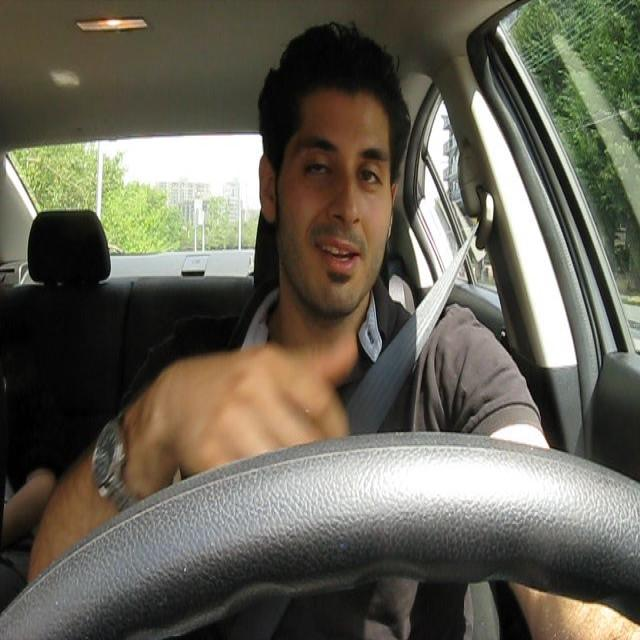Eyeclosed: (304, 157, 331, 180)
Eyeopen: (360, 164, 384, 191)
